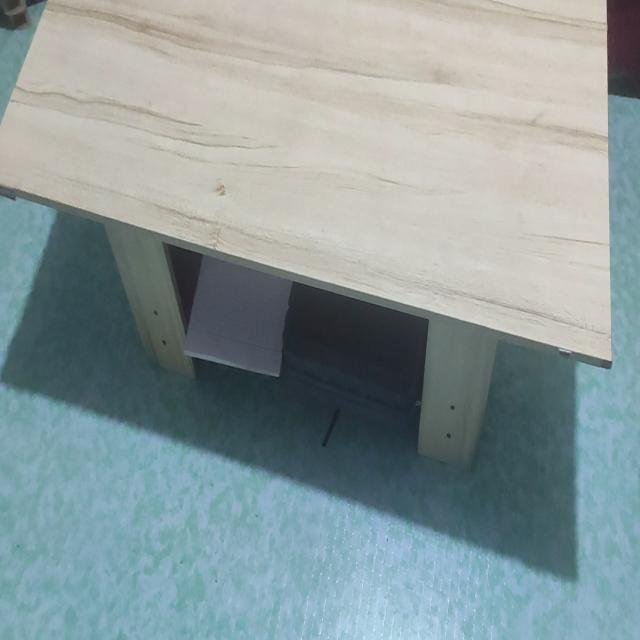table: (0, 0, 616, 482)
